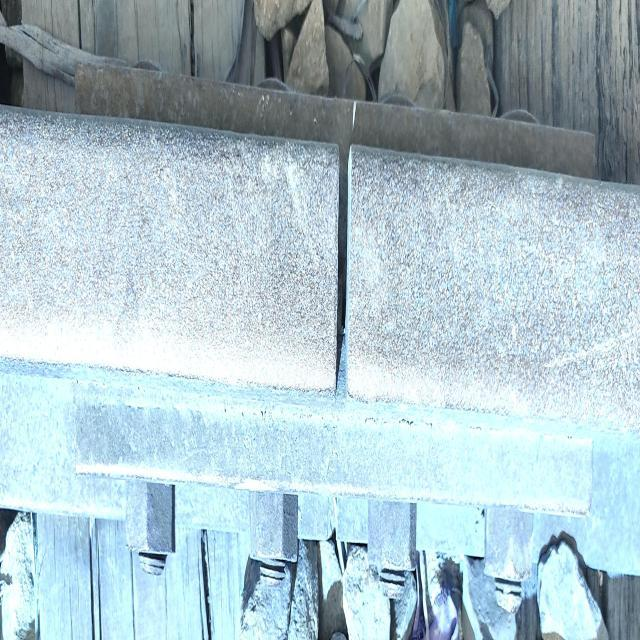Missing Fastener: (52, 65, 623, 631)
